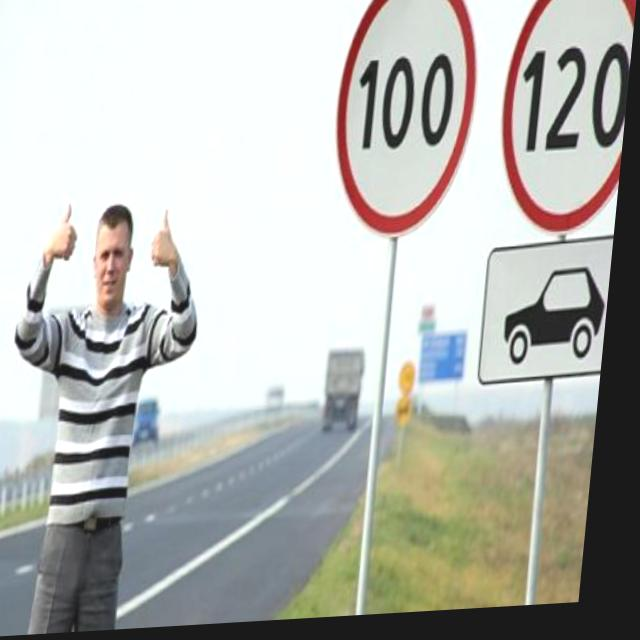limit100: (322, 0, 492, 248)
limit120: (486, 0, 640, 244)
